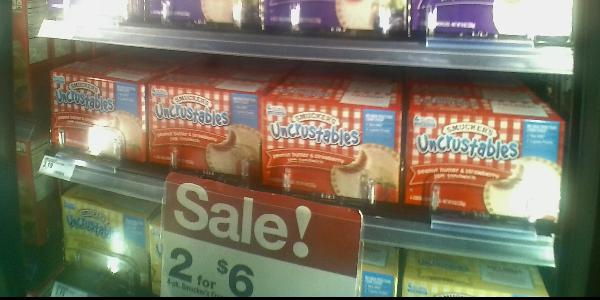icecream: (406, 69, 568, 234), (261, 79, 404, 213), (151, 61, 265, 200), (45, 60, 151, 174)
